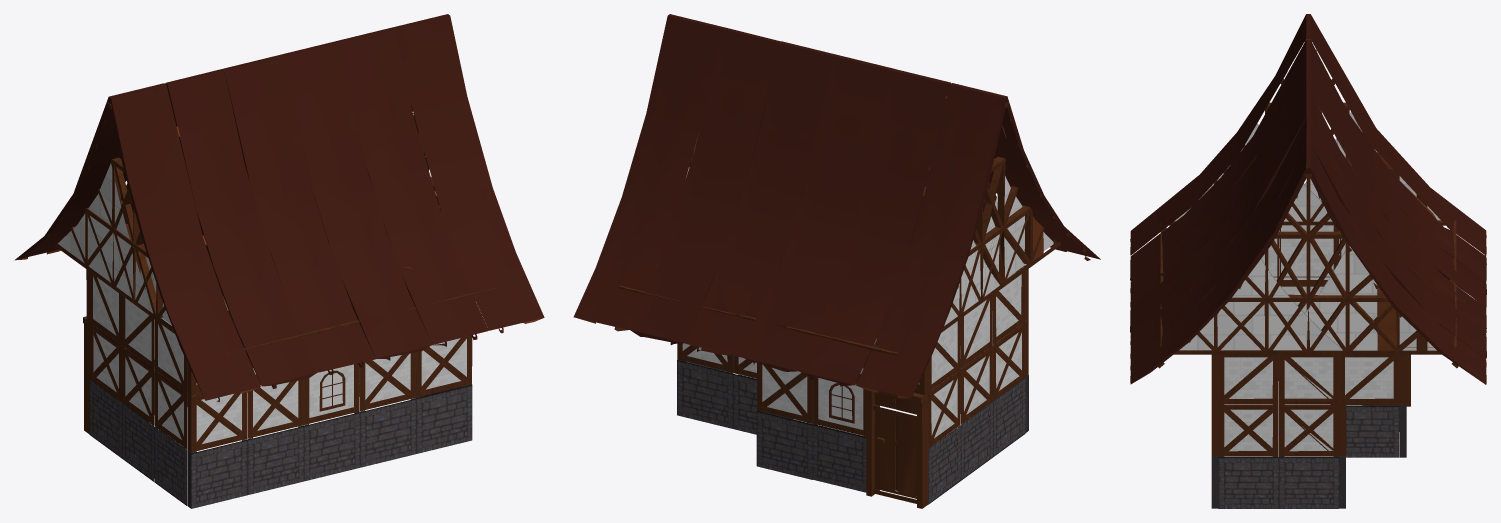
File: House4_LOD3.fbx
3 views of the same model, side by side, from view 1: azimuth 30°, elevation 25°; view 2: azimuth 150°, elevation 25°; view 3: azimuth 270°, elevation 25° (orthographic). The views are drawn at different scales.
Parts seen in each view (by area): view 1: House4_LOD3; view 2: House4_LOD3; view 3: House4_LOD3.
Boxes of the visible parts, x1=… form: House4_LOD3: x1=15, y1=14, x2=544, y2=508; House4_LOD3: x1=573, y1=14, x2=1100, y2=508; House4_LOD3: x1=1130, y1=14, x2=1486, y2=508.
Bounding box in the file's own units: 1282 × 1369 × 1251.
